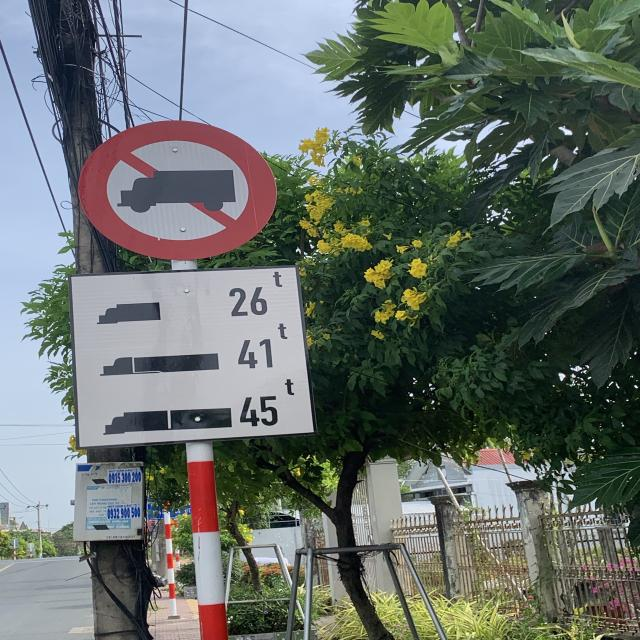Cam_Xe_Tai: (73, 118, 275, 259)
